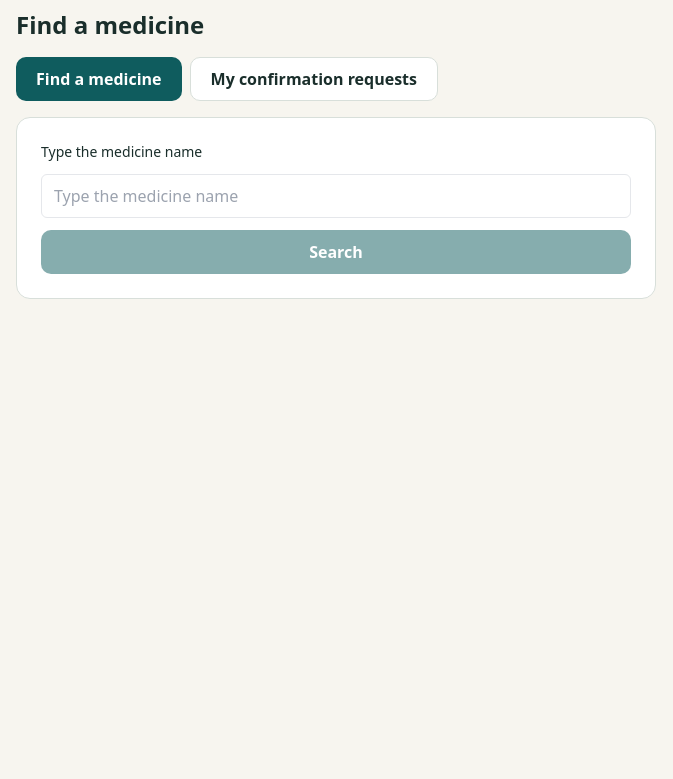
it: pharmacy finder: availability results › shows pharmacy name, last-confirmed timestamp, and freshness caution
Type "paracetamol" into the field labelled "Type the medicine name" at (336, 196), box [41, 174, 631, 218]
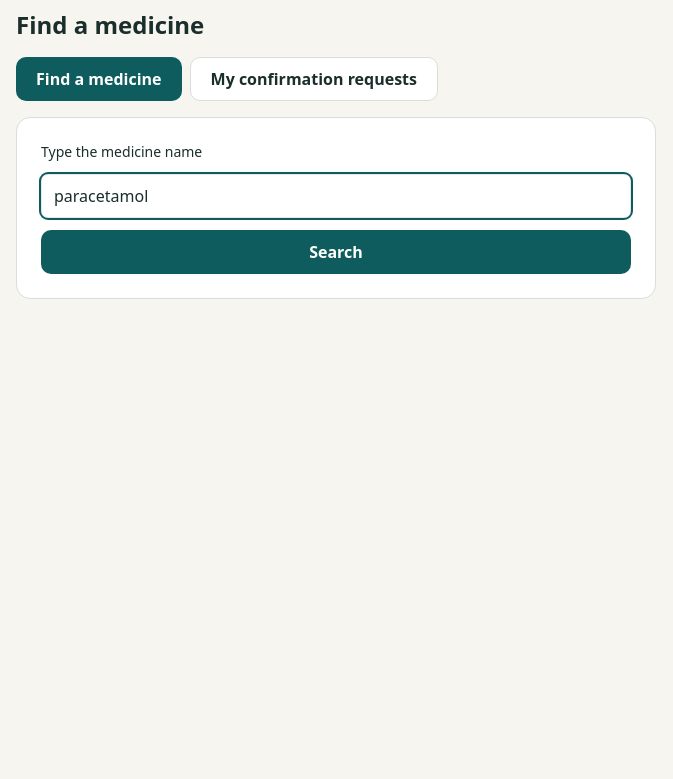
Click the button "Search" at (336, 252), box [41, 230, 631, 274]
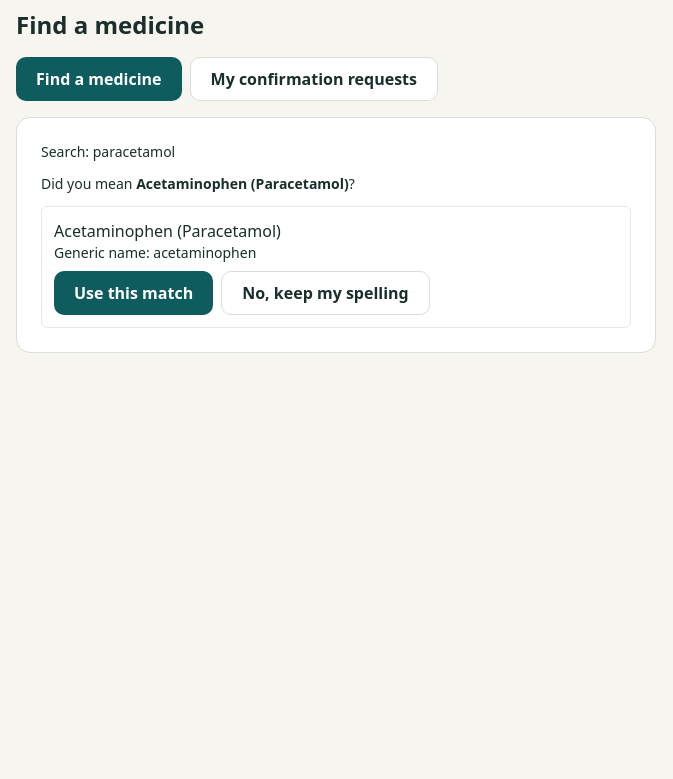
Expected: the button "Use this match" is shown
Click the button "Use this match" at (134, 293), box [54, 271, 213, 315]
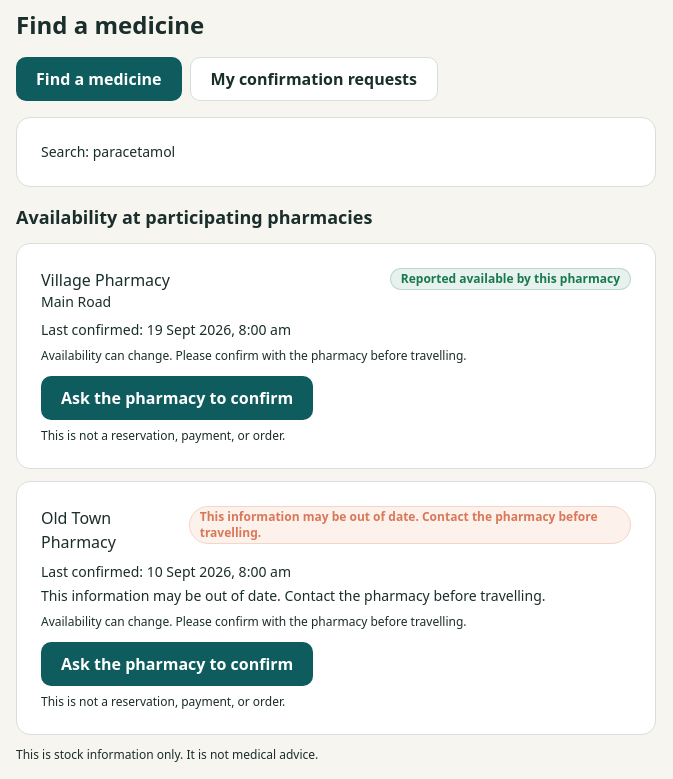
Expected: the text "Village Pharmacy" is shown, [41, 268, 170, 292]
Expected: the text "Last confirmed: 19 Sept 2026, 8:00 am" is shown, [41, 320, 291, 339]
Expected: the text "Availability can change" below "19 Sept 2026, 8:00 am" is shown, [41, 347, 466, 364]
